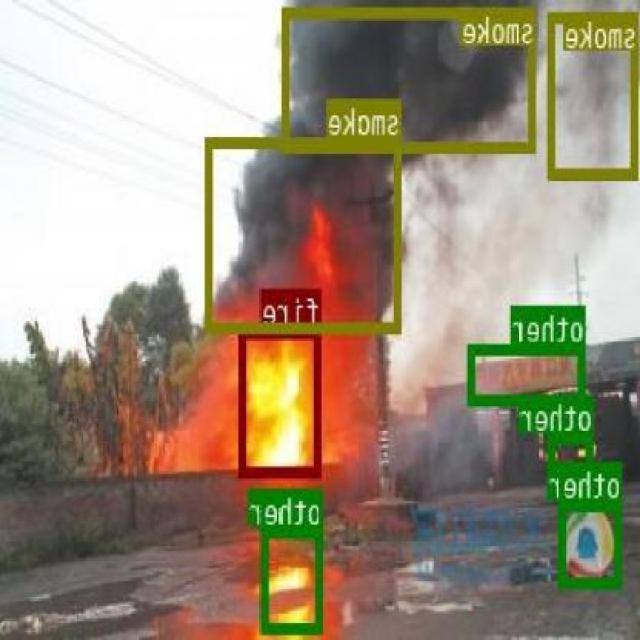Fire: (240, 327, 322, 475)
Smoke: (207, 136, 402, 332), (284, 5, 538, 152), (550, 11, 639, 177)
